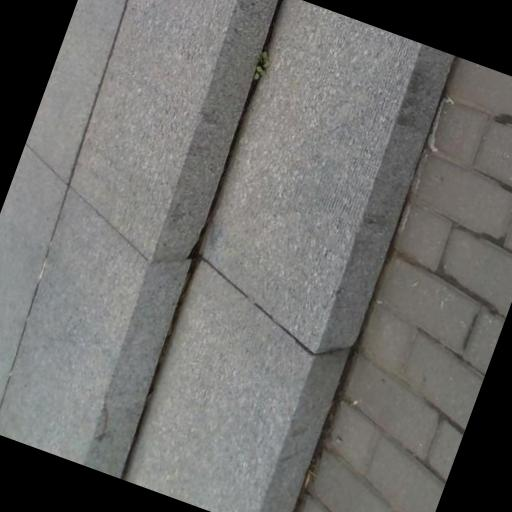stairs: (0, 0, 453, 511), (125, 0, 452, 511)
